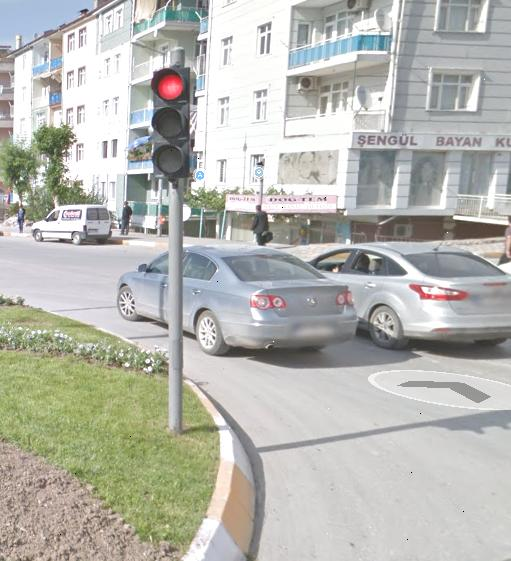redlight: (149, 65, 192, 176)
